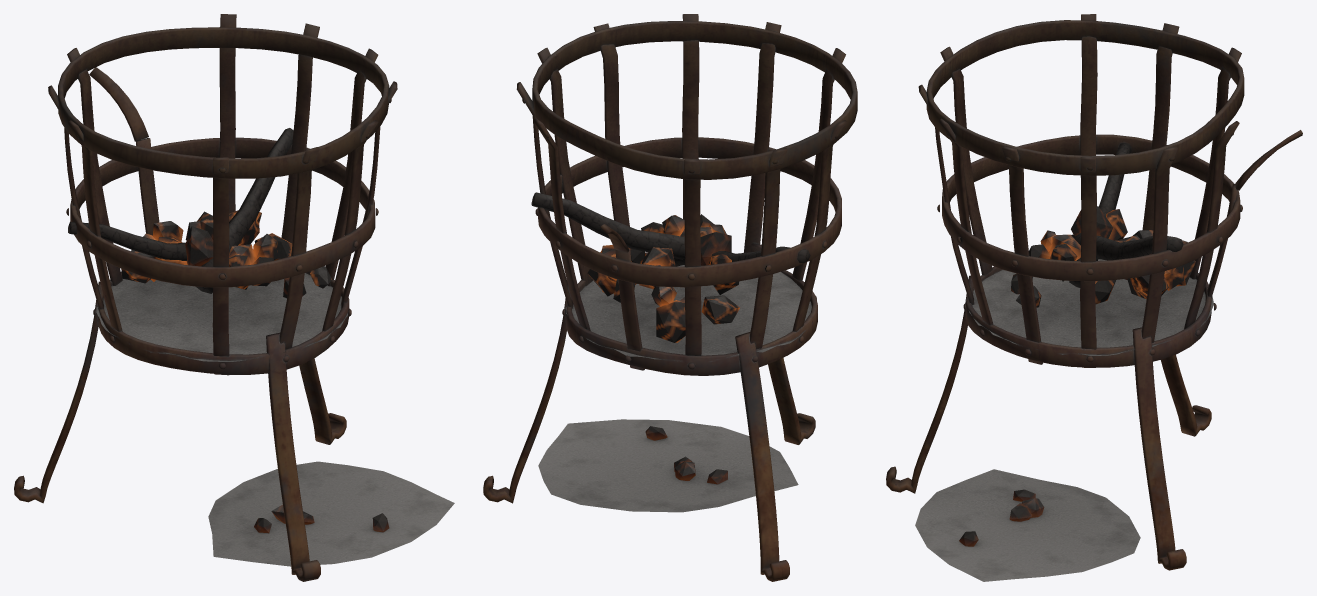
The model's file is b4p_brazier_cage.glb.
The picture shows the model from 3 angles, left to right: view 1: azimuth 30°, elevation 25°; view 2: azimuth 150°, elevation 25°; view 3: azimuth 270°, elevation 25°; orthographic projection. The views are drawn at different scales.
Visible parts, largest first — view 1: b4p_brazier_cage; view 2: b4p_brazier_cage; view 3: b4p_brazier_cage.
Boxes of the visible parts, x1=… form: b4p_brazier_cage: x1=14, y1=14, x2=454, y2=581; b4p_brazier_cage: x1=483, y1=14, x2=857, y2=581; b4p_brazier_cage: x1=886, y1=14, x2=1302, y2=581.
Size of the model in its own units: 0.7244 by 0.8947 by 0.8066.
Materials: 1 (1 with a texture image).
